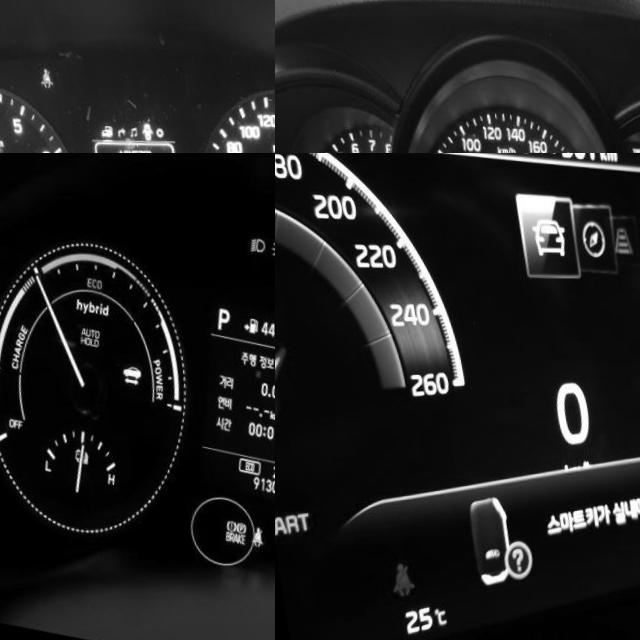Low beam: (239, 237, 259, 257)
SideLamp: (259, 241, 275, 262)
